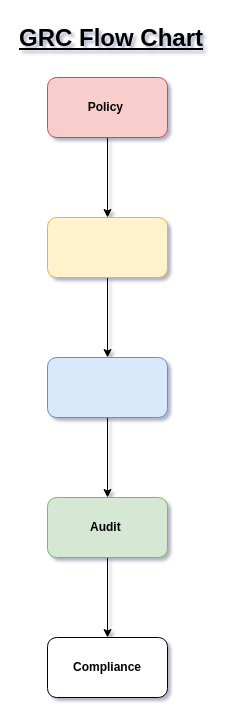
The diagram is 250 pixels wide and 721 high, and some of its shapes have lost their labels. Each missing label, with the box of its shape:
Control: (46, 356, 168, 418)
Risk: (46, 216, 168, 278)
